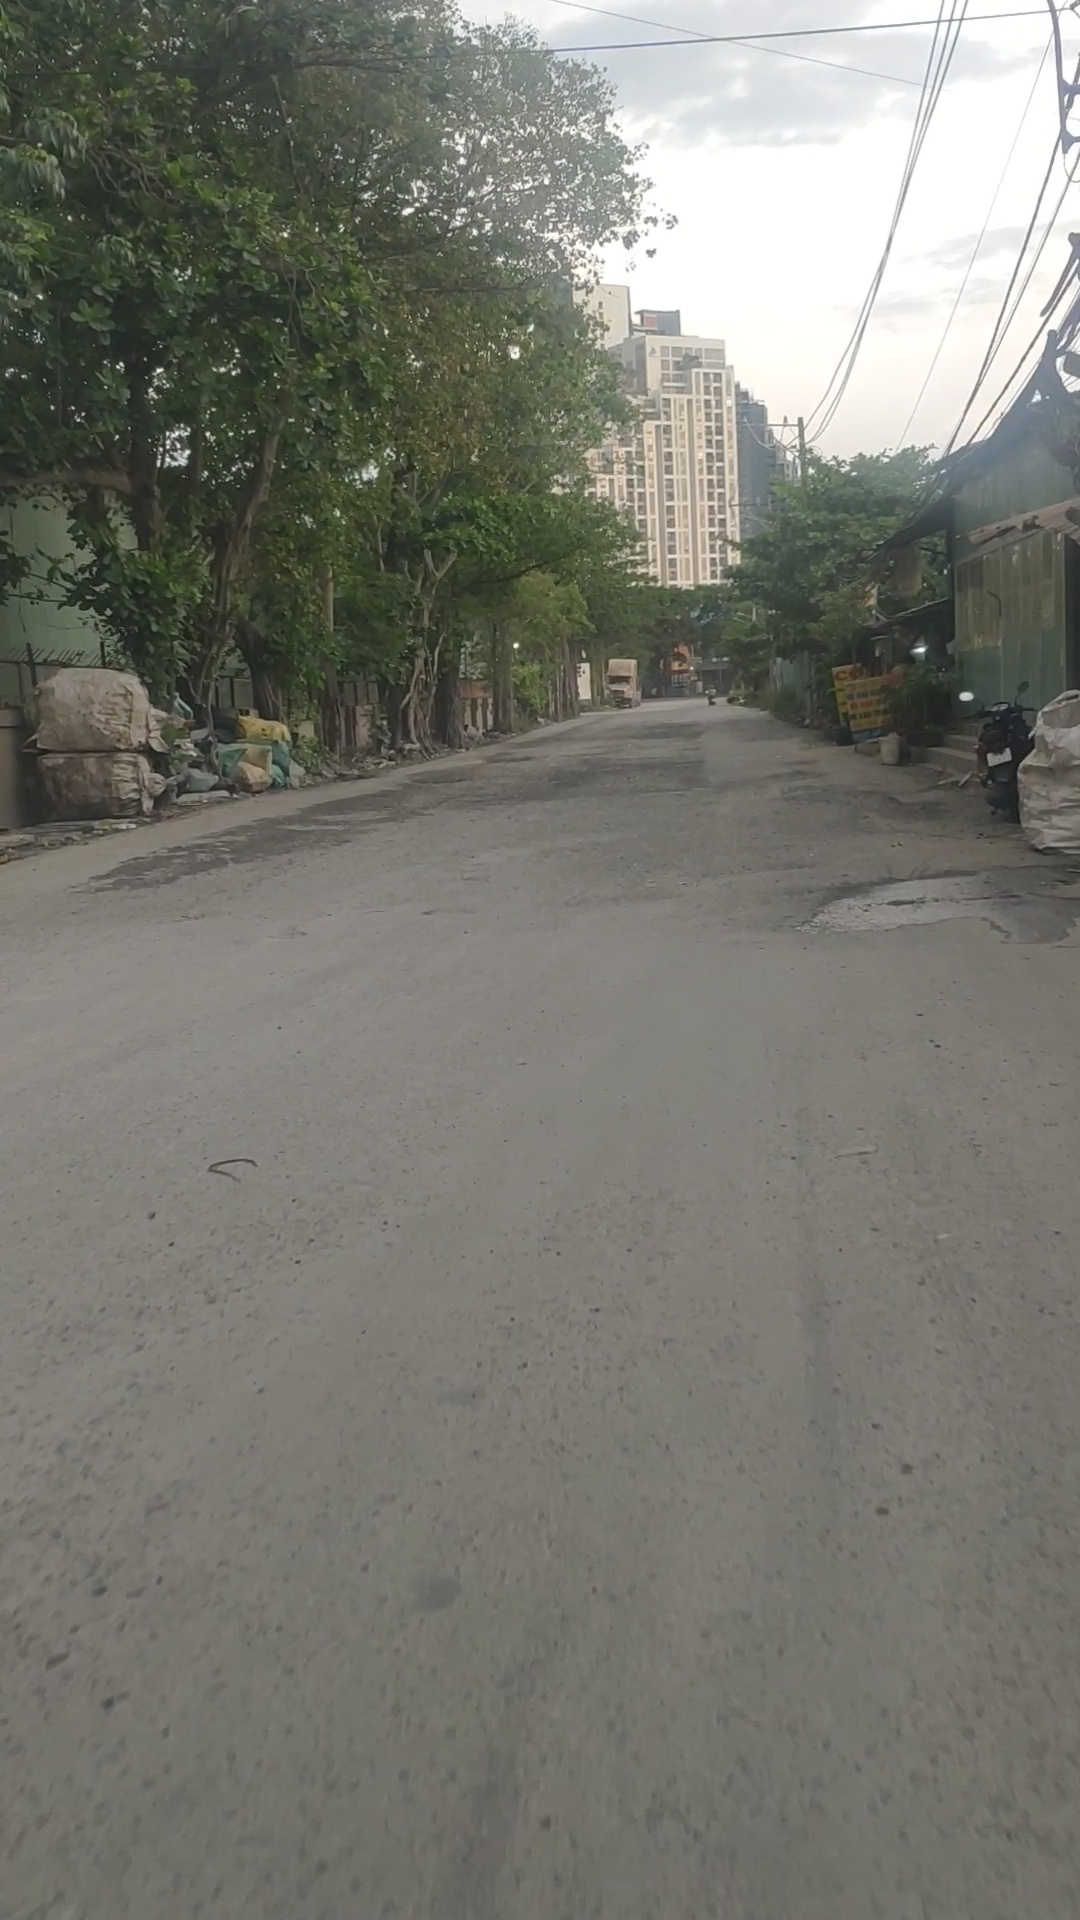hole: (402, 771, 473, 789), (479, 752, 545, 767)
